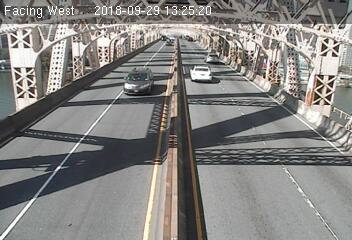car: (122, 66, 158, 98), (189, 63, 215, 83), (205, 49, 220, 63), (165, 37, 174, 47)
